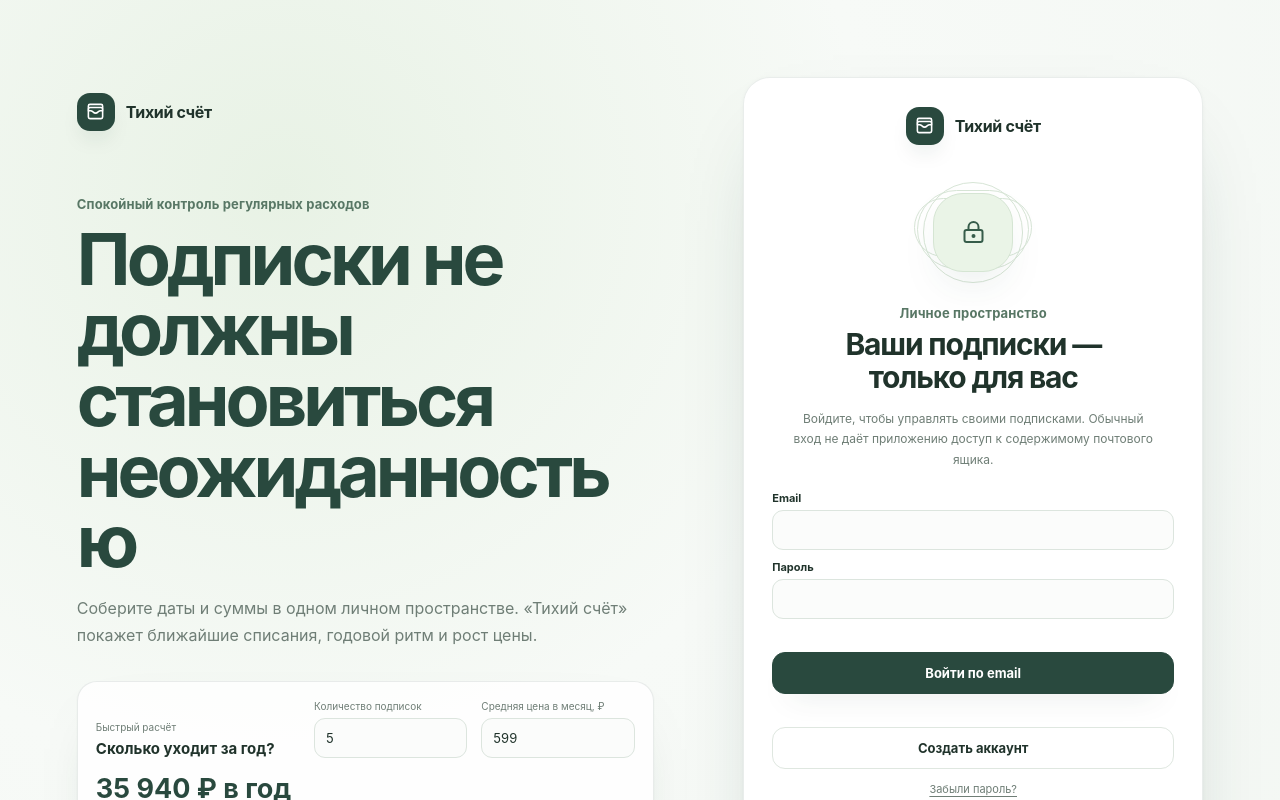
Test case: email registration requires explicit acceptance of terms and privacy policy
Click the button "Создать аккаунт" at (973, 748), box [772, 727, 1174, 769]
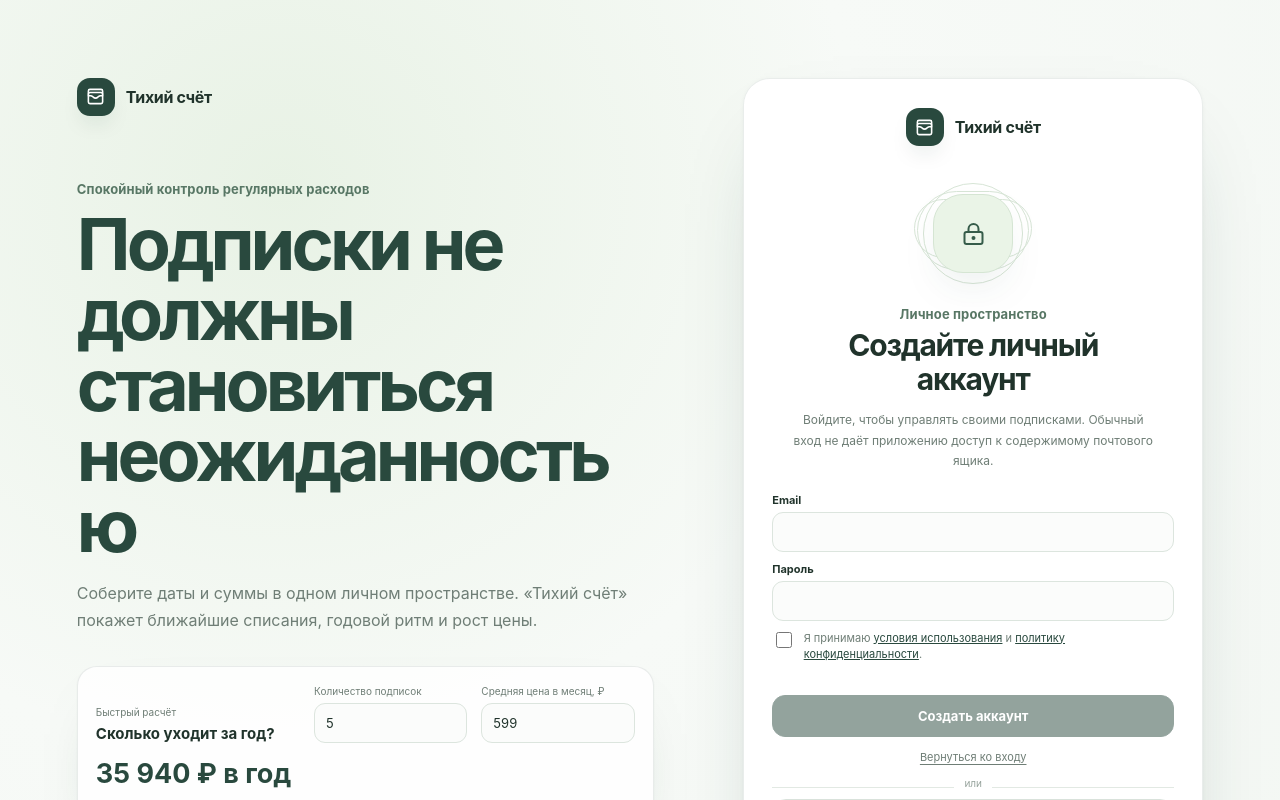
Check: the button "Создать аккаунт" is disabled, box [772, 696, 1174, 738]
Check: the number of links "условия использования" is 2
Check: the number of links "политику конфиденциальности" is 2
Click the checkbox at (784, 640), box [776, 632, 792, 648]
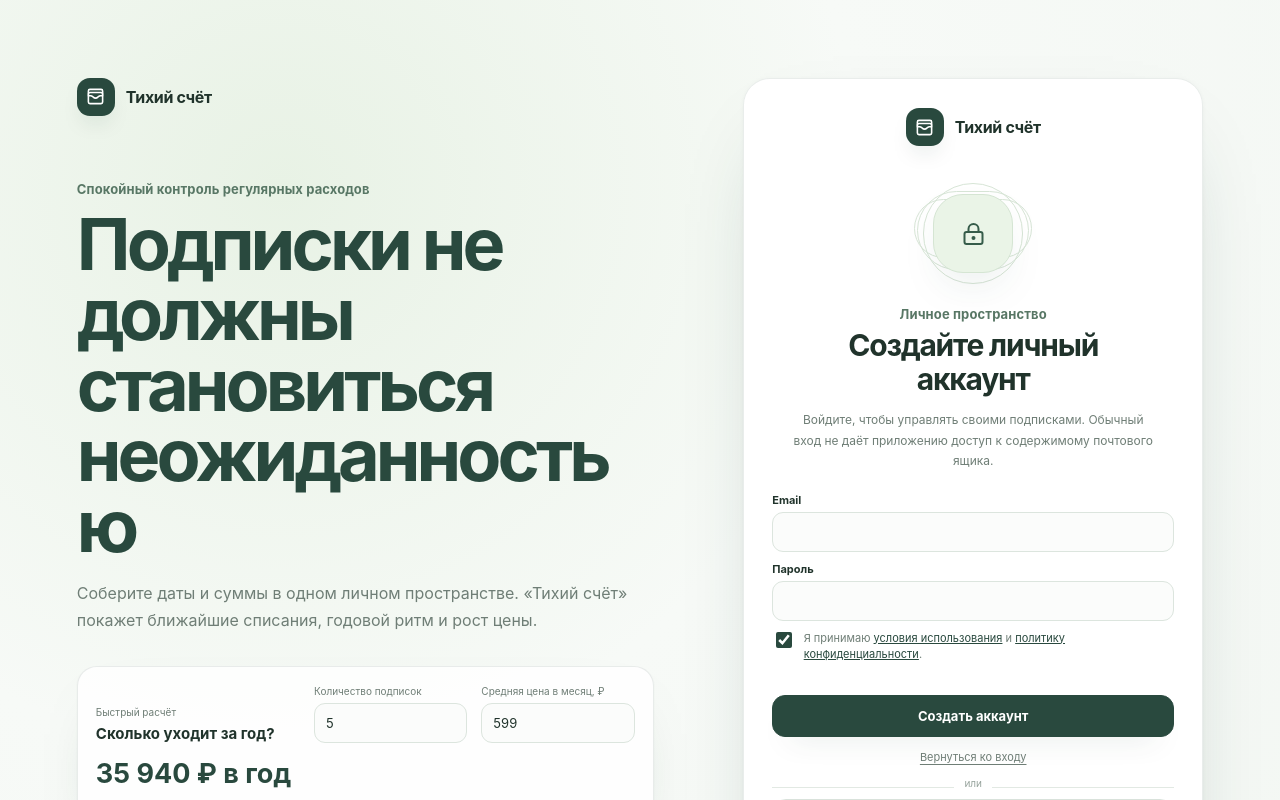
Check: the button "Создать аккаунт" is enabled, box [772, 696, 1174, 738]
